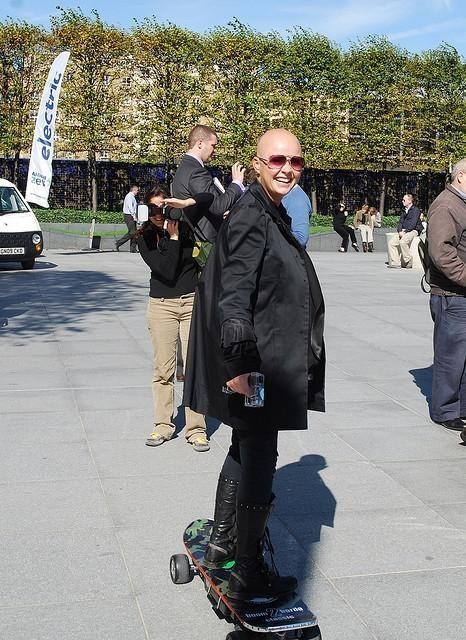car: (0, 178, 43, 270)
